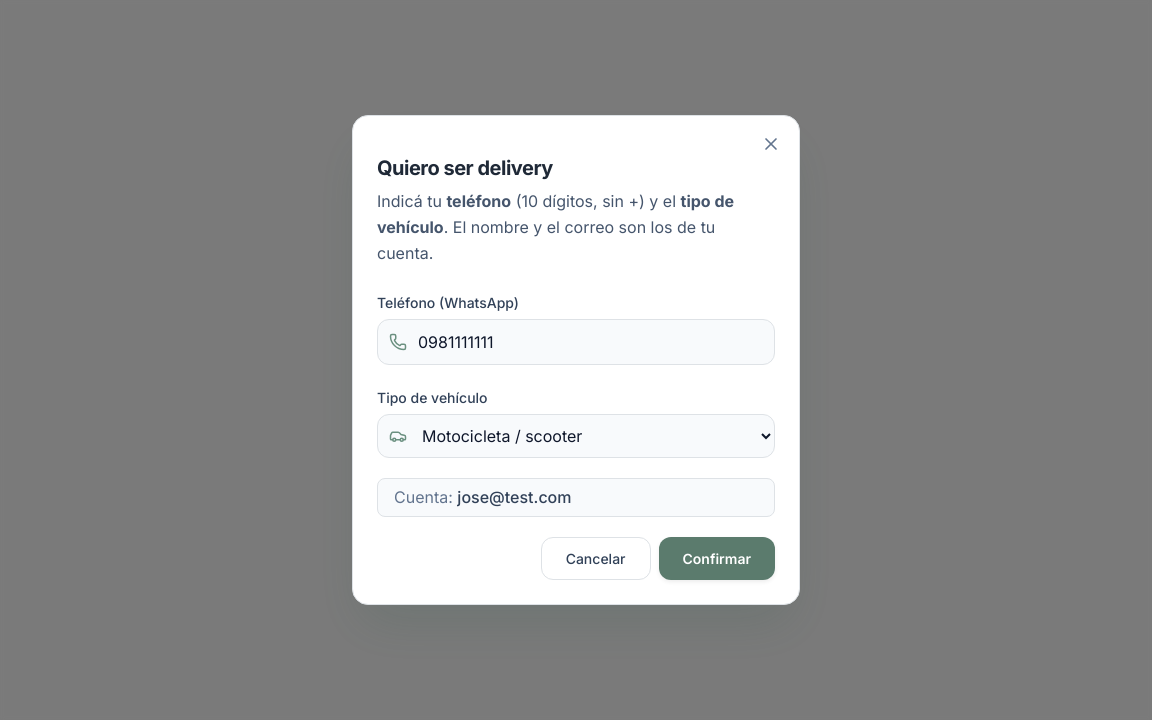
Test case: BecomeDeliveryModal › muestra error cuando becomeDelivery falla
Check: the field with placeholder "09xxxxxxxx" is shown, box [377,319,775,365]
Click the button "Confirmar": (717, 559) [658,537,775,580]
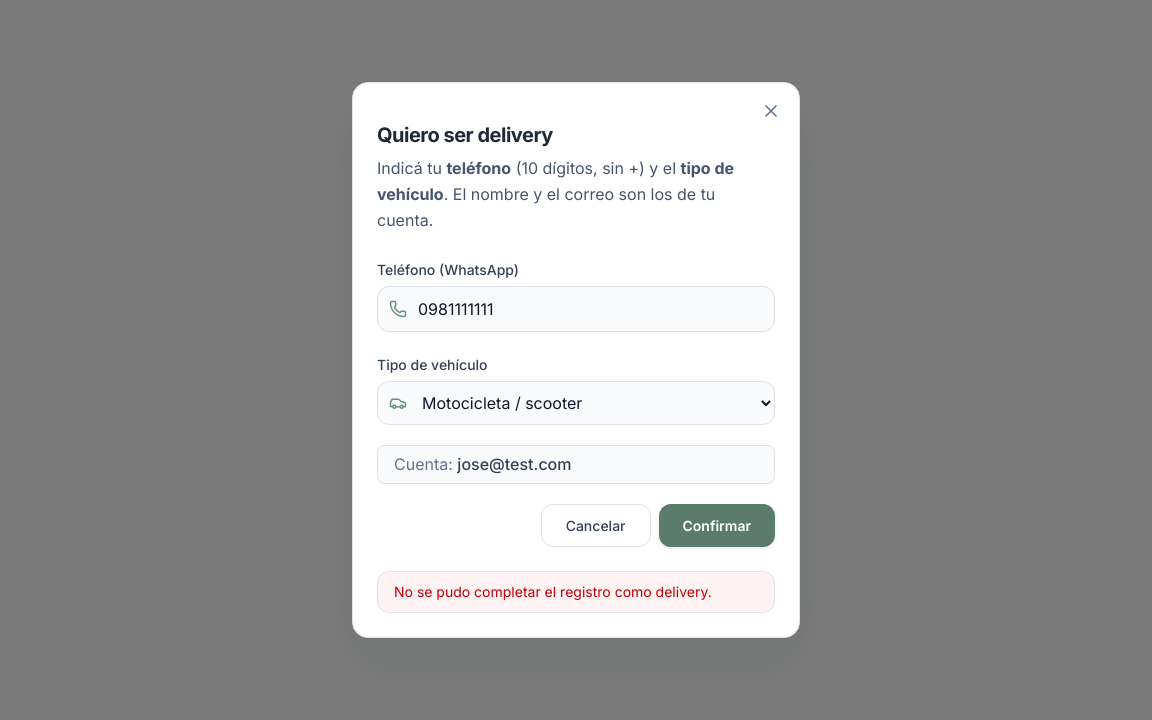
Check: the text "No se pudo completar el registro como delivery." is shown, box [377,571,775,613]
